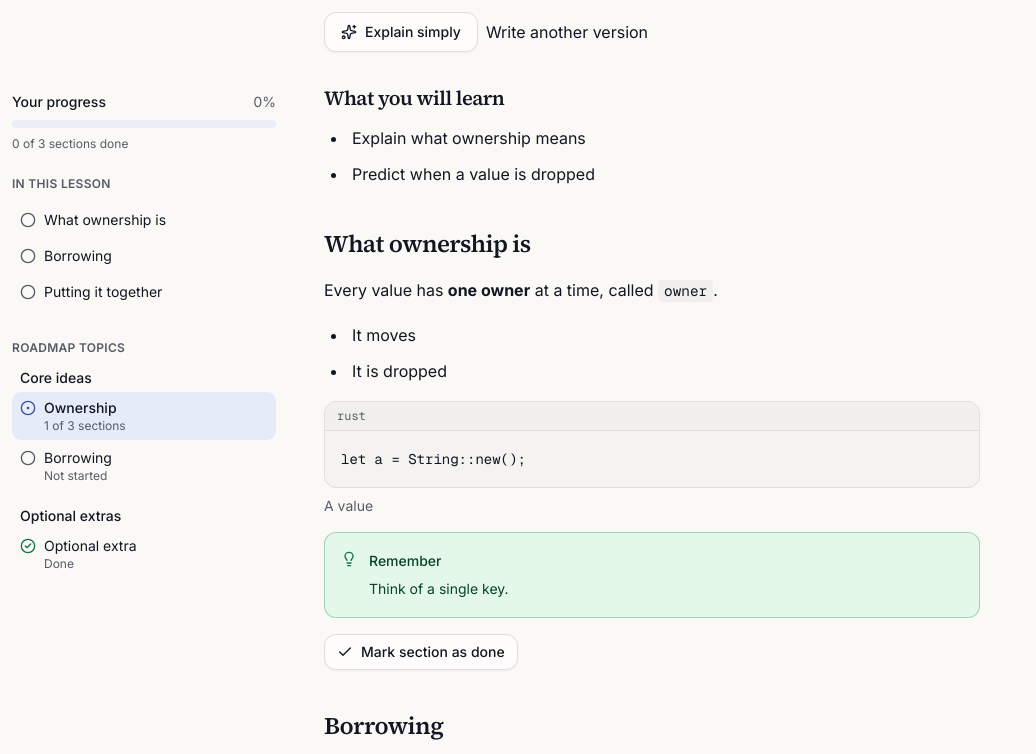
Test: Explain simply › shows the stored simple explanation on request and hides it again
Check: the heading "In simple words" is not shown
Click the button "Explain simply" at (401, 32), box left=324, top=12, right=478, bottom=52
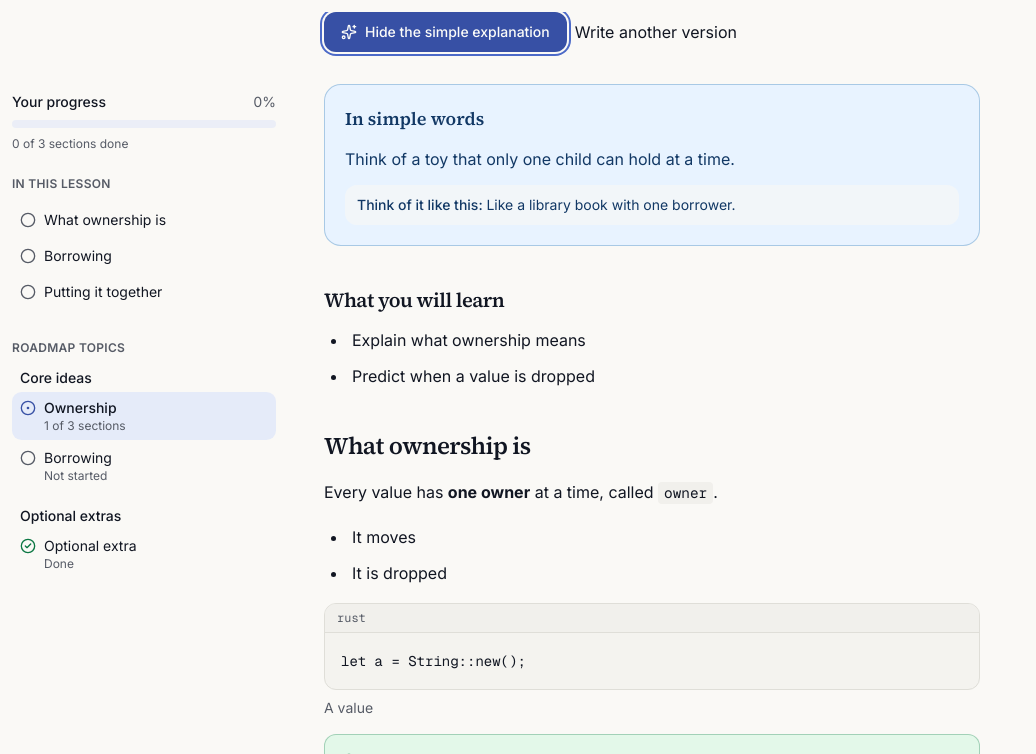
Check: the heading "In simple words" is shown, box left=345, top=106, right=484, bottom=131
Check: the text "Think of a toy that only one child can hold at a time." is shown, box left=345, top=149, right=735, bottom=169
Check: the text "Like a library book with one borrower." is shown, box left=486, top=196, right=736, bottom=213
Click the button "Hide the simple explanation" at (445, 32), box left=324, top=12, right=567, bottom=52
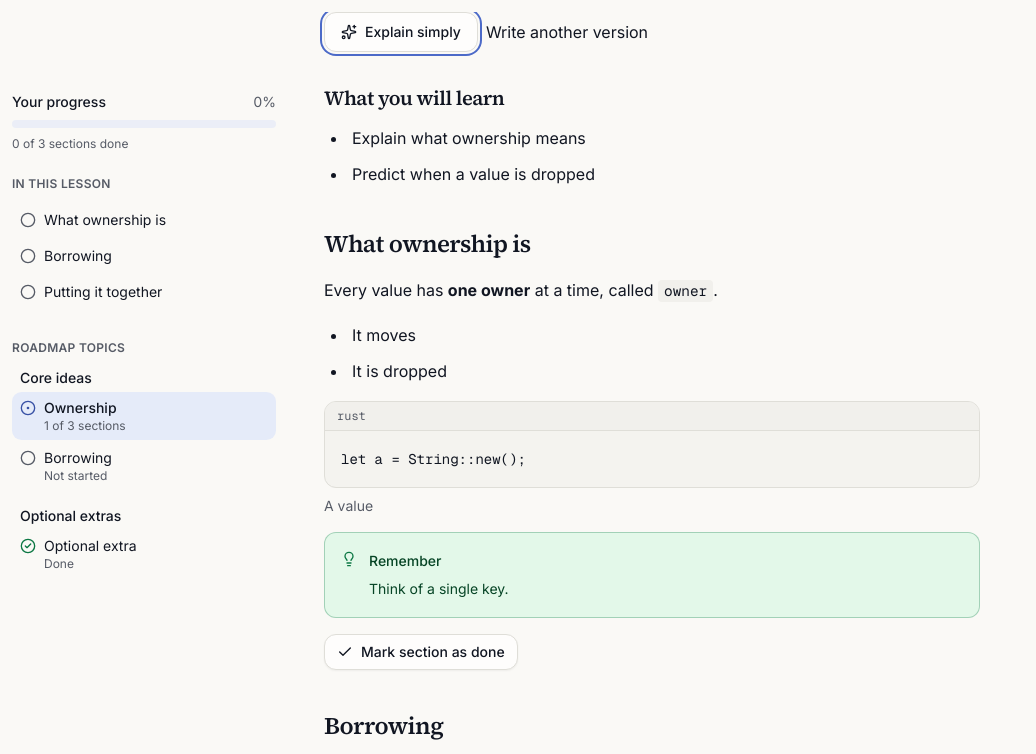
Check: the heading "In simple words" is gone
